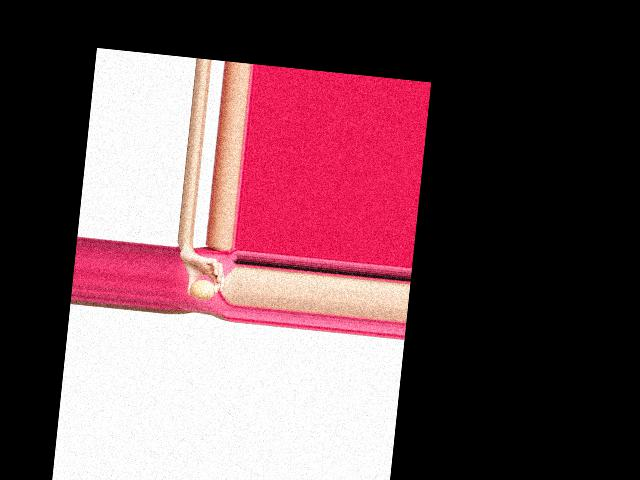egg: (189, 278, 216, 300)
